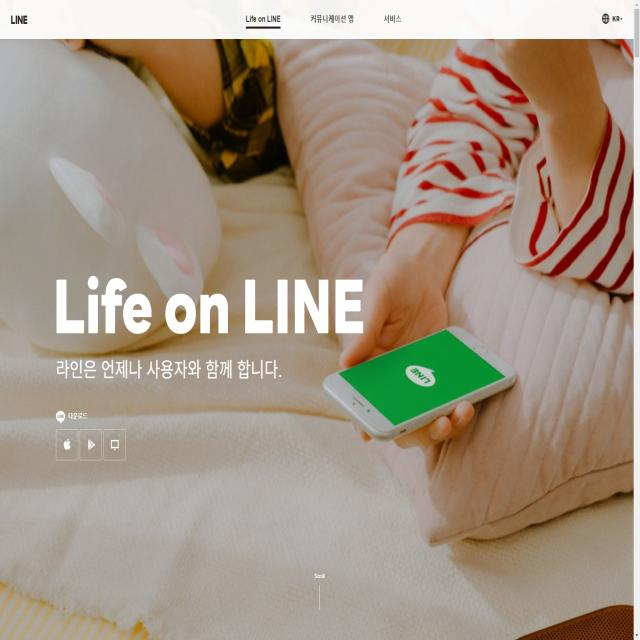menu-bar: (235, 2, 410, 37)
